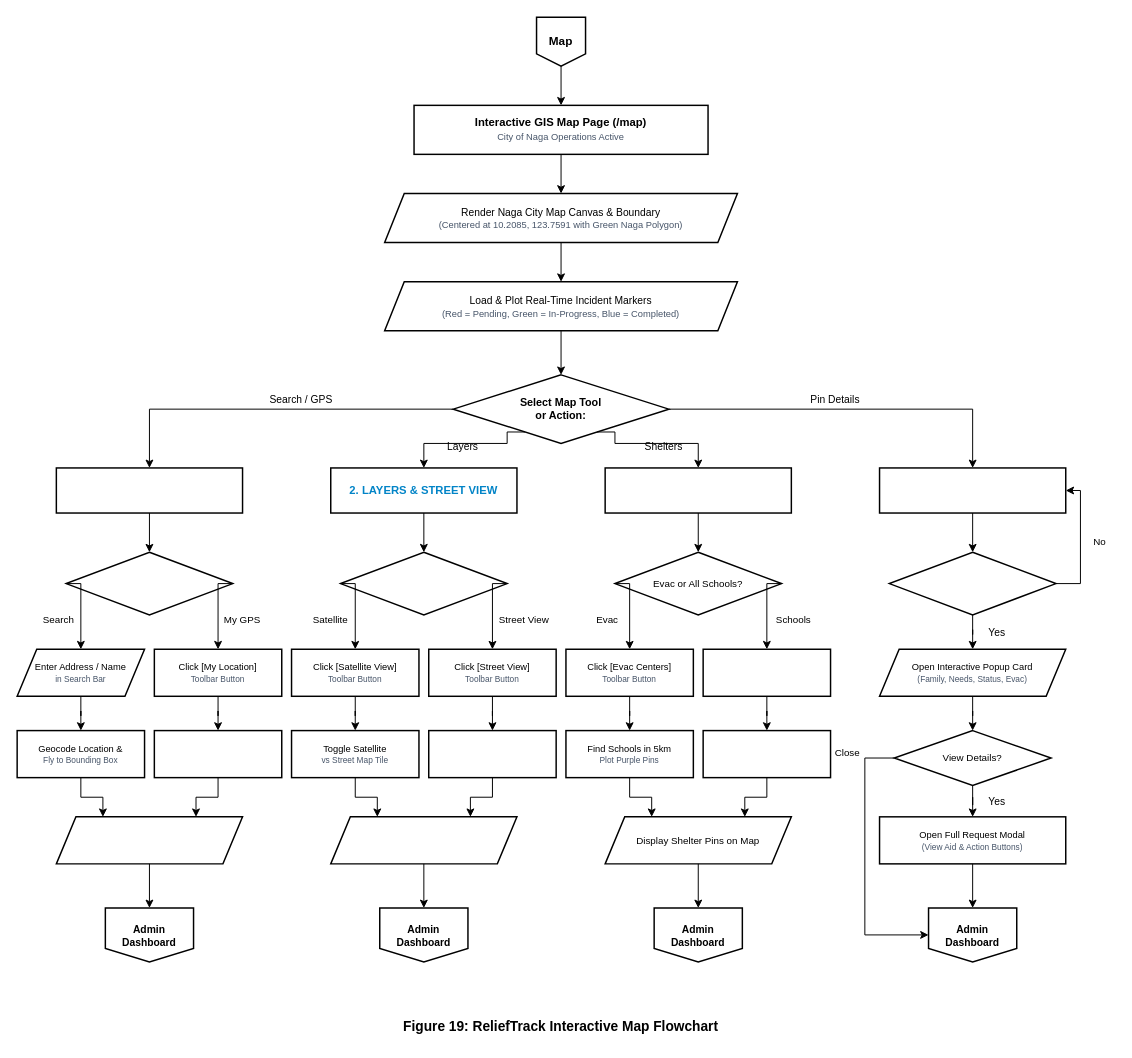
This 1132x1058 diagram has some shape labels left out. The centre of each missing label's shape, as x and y in pixels:
1. SEARCH & GPS TOOLS: point (149, 490)
3. EVAC & SCHOOL LAYERS: point (698, 490)
4. INCIDENT PIN INSPECT: point (972, 490)
Click [All Schools] (Admin Only Button): point (766, 672)
Click Map Coordinate Open 360° Panorama: point (492, 753)
Click Marker on Map?: point (972, 583)
Display Selected Map Mode: point (423, 840)
Get GPS & Center on Blue User Pin: point (217, 753)
Query Naga Registry Plot Amber Pins: point (766, 753)
Satellite or Street View?: point (423, 583)
Search Place or GPS?: point (149, 583)
Update Map View & Marker: point (149, 840)
